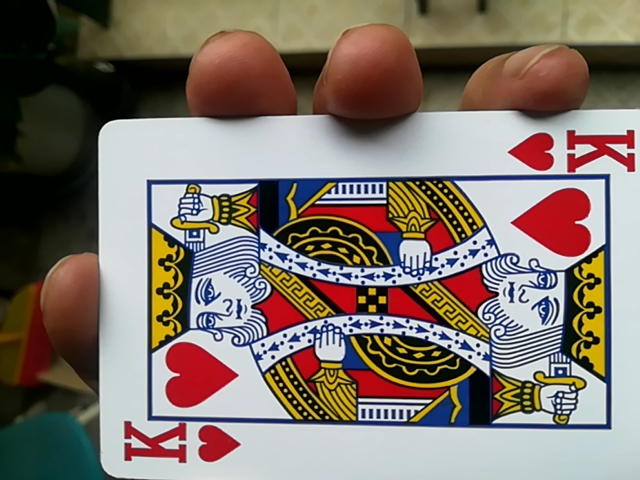hx k: (95, 121, 634, 480)
